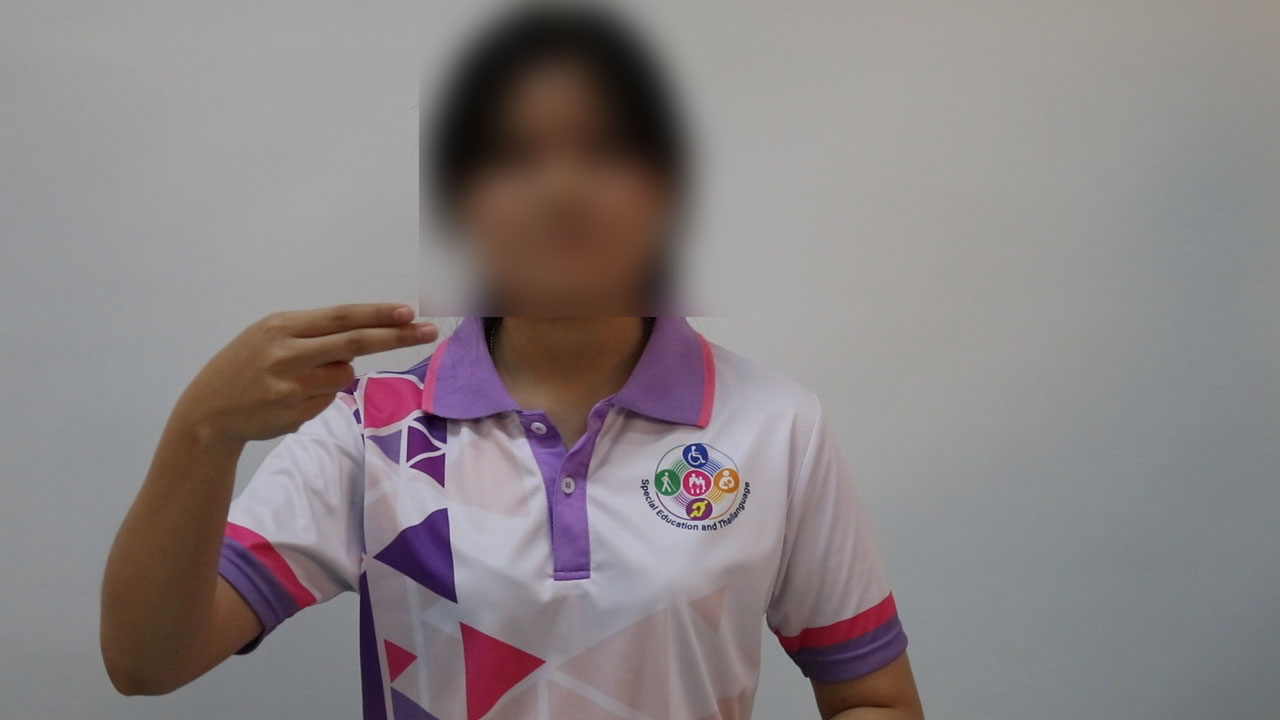hor: (181, 283, 444, 445)
